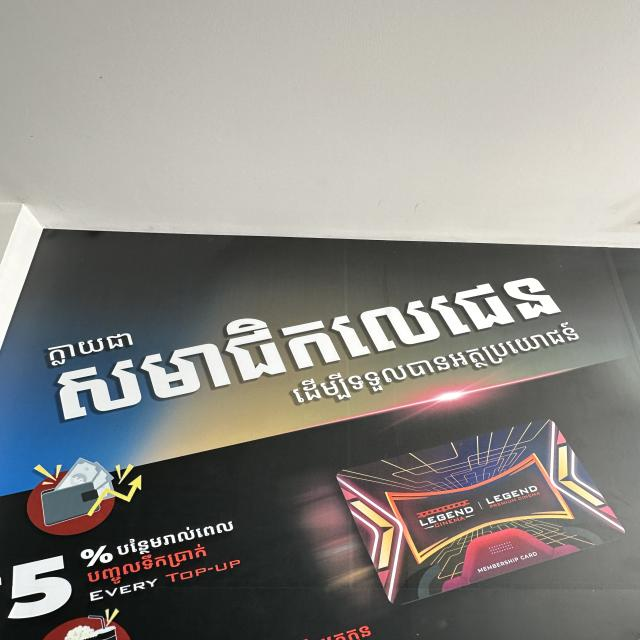766: (4, 505, 253, 627)
Yolov11_80vkh: (44, 267, 578, 430), (282, 316, 599, 418), (25, 319, 140, 371)
